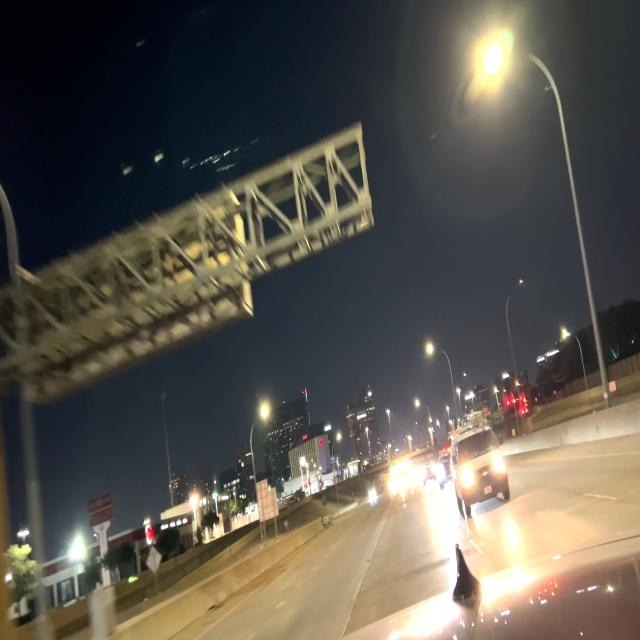back-of-sign: (20, 183, 252, 406), (256, 475, 279, 525), (145, 544, 163, 576)
